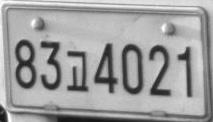0: (120, 42, 144, 95)
1: (175, 46, 199, 98)
2: (147, 43, 172, 97)
3: (39, 40, 62, 91)
4: (93, 42, 118, 93)
8: (14, 38, 36, 90)
고: (66, 49, 89, 92)
